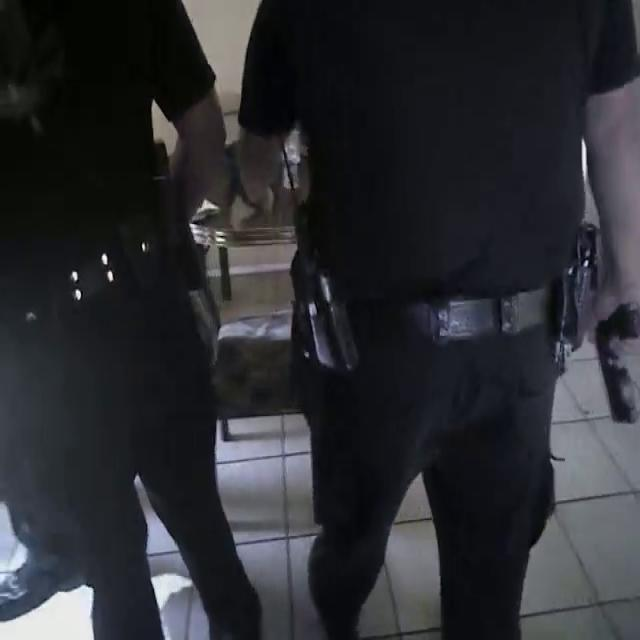gun: (581, 279, 640, 465)
